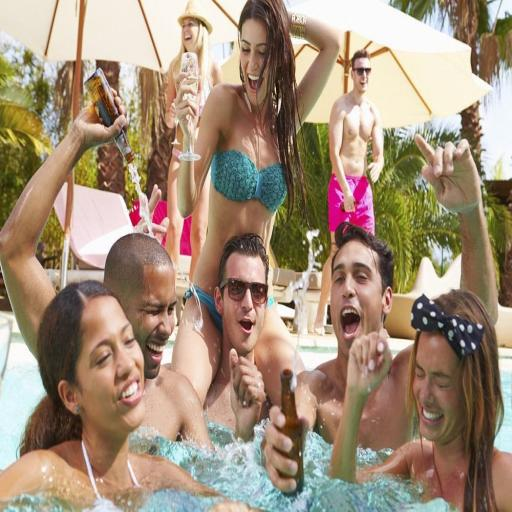person: (172, 0, 340, 401), (0, 282, 216, 503), (331, 290, 511, 511), (0, 97, 125, 359), (296, 224, 393, 442), (314, 50, 383, 334), (165, 0, 221, 264), (205, 234, 268, 440)
